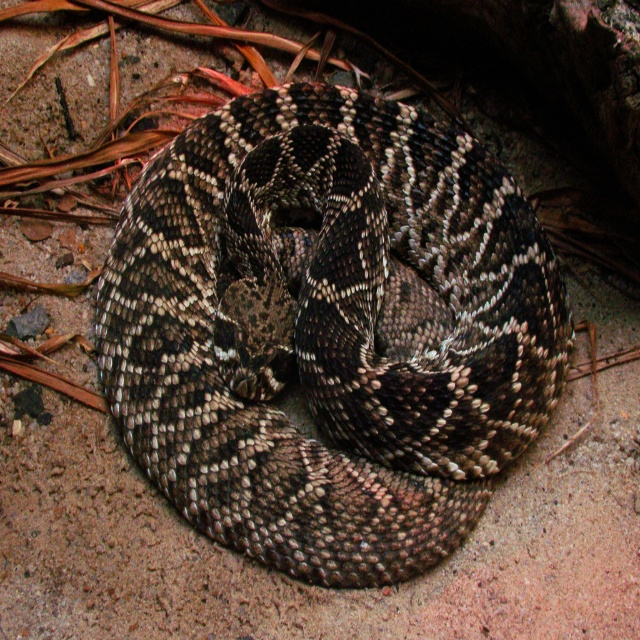Snake: (96, 81, 575, 589)
